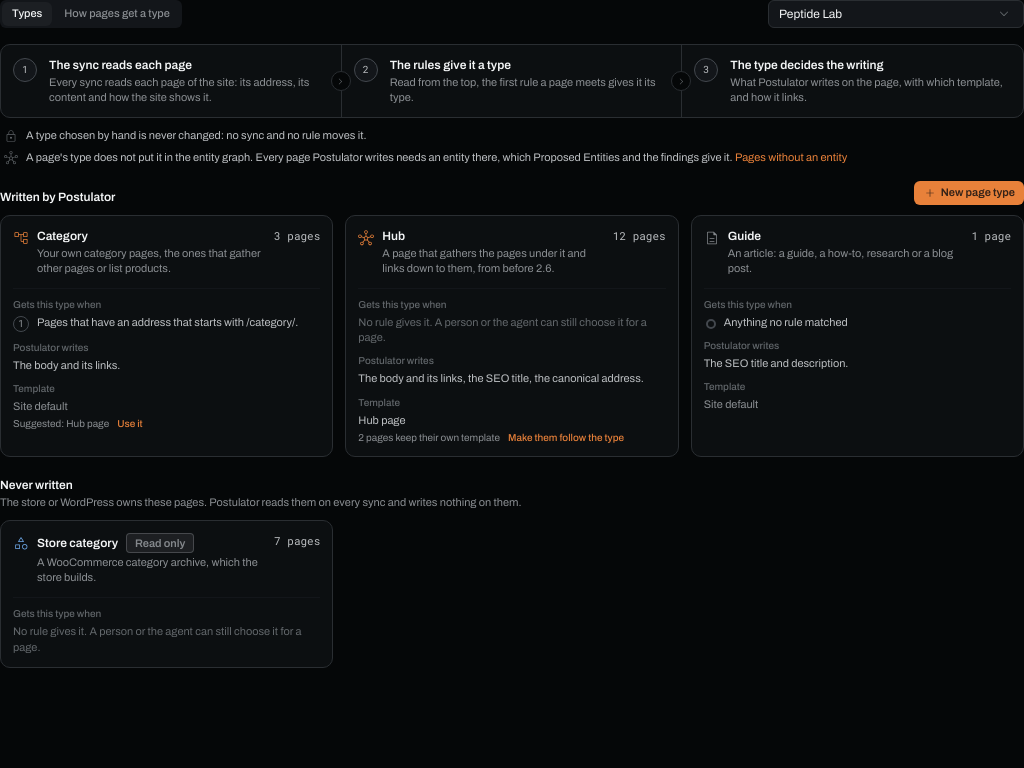
Test case: Settings, Page types, a card per type › opens a type's fields from anywhere on its card
Step 1. Click the text "The SEO title and description." → (776, 363), box [704,357,848,369]
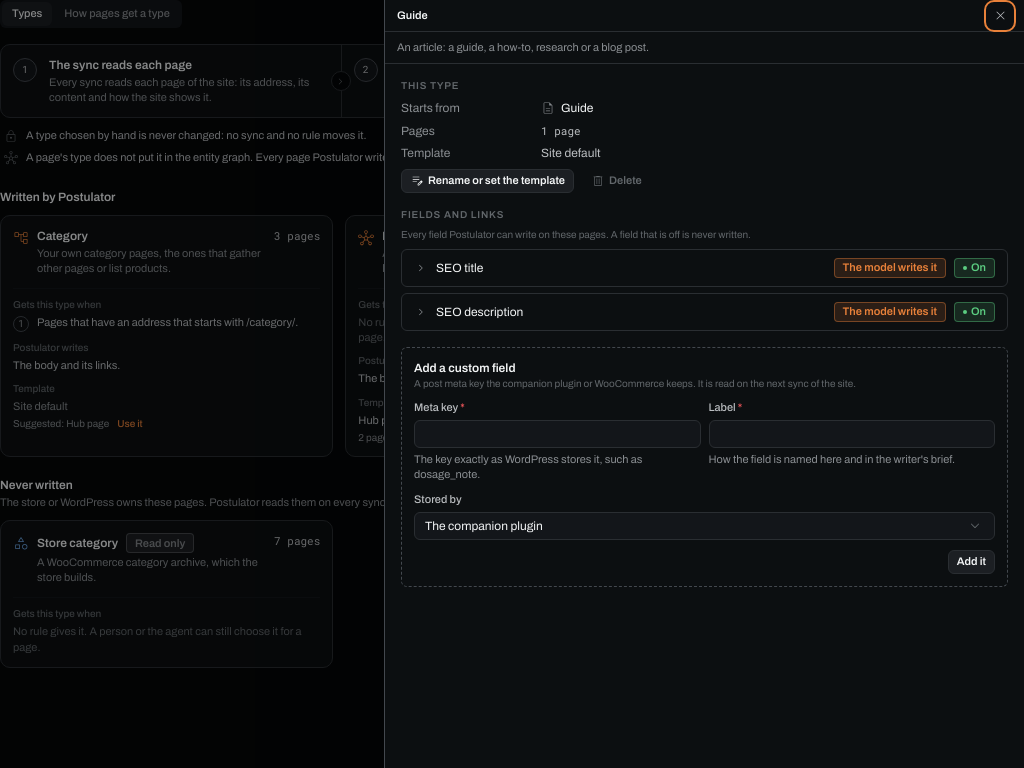
Expected: the element that starts with "This type" is shown, [385,64,1023,603]
Expected: the text "Starts from" is shown, [401,101,460,115]
